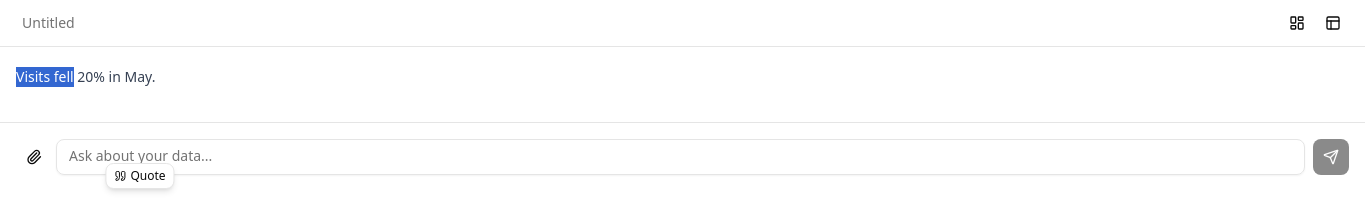
ChatPanel quote-reply (#920) › removes a quote with its ×
Click the button with test id "chat-quote-action": click(140, 176) [105, 163, 175, 189]
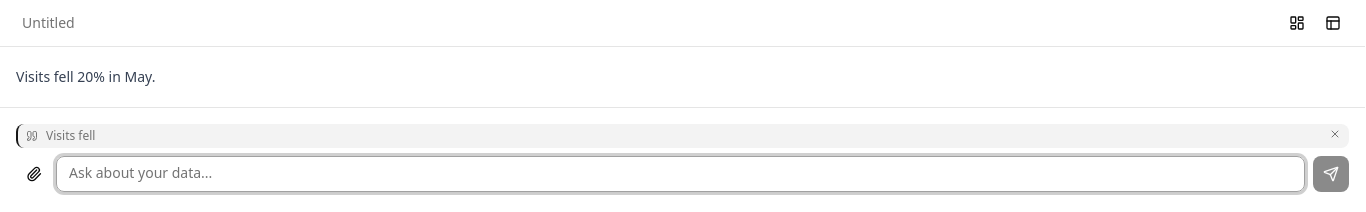
Click the button with test id "composer-quote-remove": click(1335, 134) [1329, 128, 1341, 140]
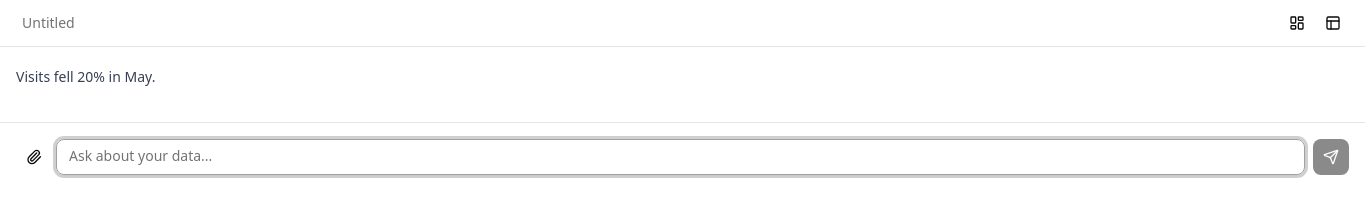
Expected: the list item with test id "composer-quote-chip" is gone
